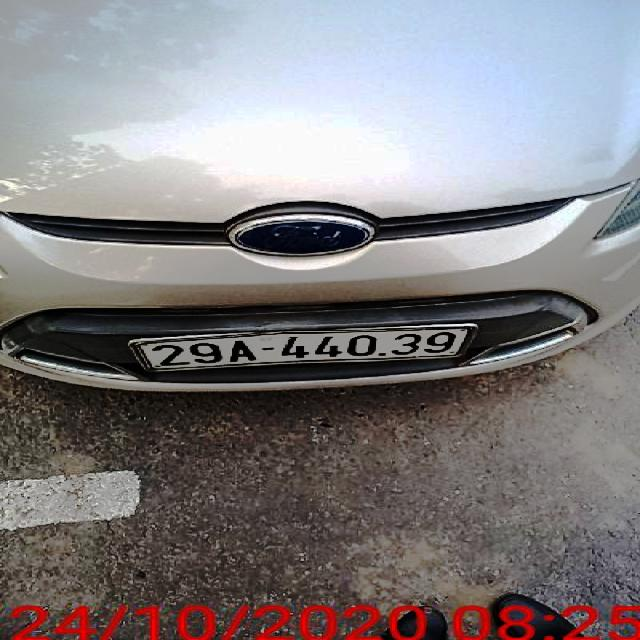license_plate: (134, 323, 475, 374)
